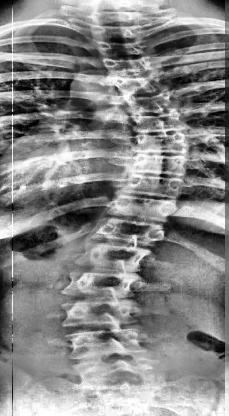Vertebrae: (86, 219, 172, 249), (75, 242, 154, 274), (60, 298, 138, 328), (67, 328, 150, 356), (60, 269, 140, 297), (106, 195, 182, 223), (121, 176, 186, 200), (127, 130, 191, 154), (130, 154, 192, 176), (130, 111, 190, 133), (112, 74, 168, 96), (104, 54, 156, 76), (97, 40, 152, 60), (92, 24, 146, 44), (128, 93, 180, 113)
